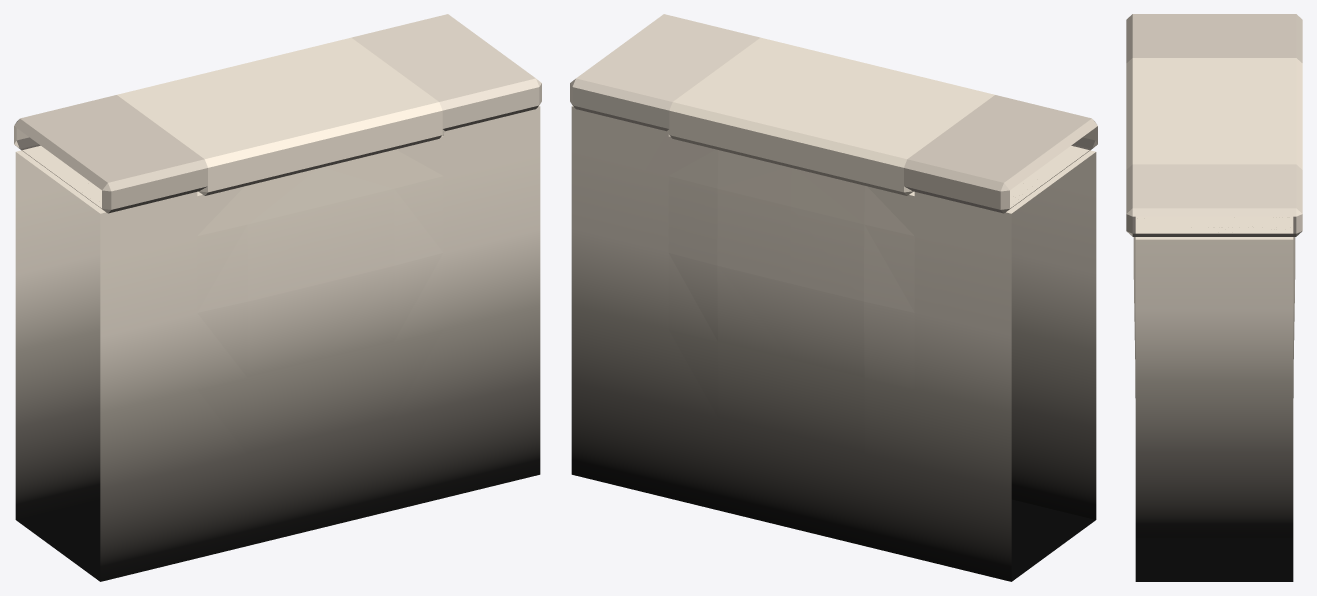
The model's file is SM_VKI_Wall_Stone_Window_150_Cut.fbx.
3 views of the same model, side by side, from view 1: azimuth 30°, elevation 25°; view 2: azimuth 150°, elevation 25°; view 3: azimuth 270°, elevation 25° (orthographic). The views are drawn at different scales.
Visible parts, largest first — view 1: SM_VKI_Wall_Stone_Window_150_Cut.001; view 2: SM_VKI_Wall_Stone_Window_150_Cut.001; view 3: SM_VKI_Wall_Stone_Window_150_Cut.001.
Part boxes in pixels (box(x1,y1,x2,y2)): SM_VKI_Wall_Stone_Window_150_Cut.001: box(14, 14, 541, 581); SM_VKI_Wall_Stone_Window_150_Cut.001: box(570, 14, 1097, 581); SM_VKI_Wall_Stone_Window_150_Cut.001: box(1126, 14, 1302, 581).
Size of the model in its own units: 1.5 by 1.3 by 0.56.
